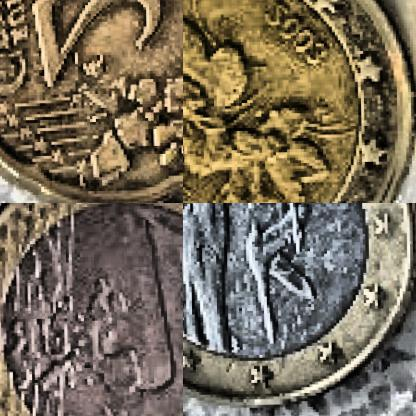coin: (183, 203, 415, 411), (183, 0, 415, 202), (0, 203, 182, 415), (0, 0, 182, 202)
